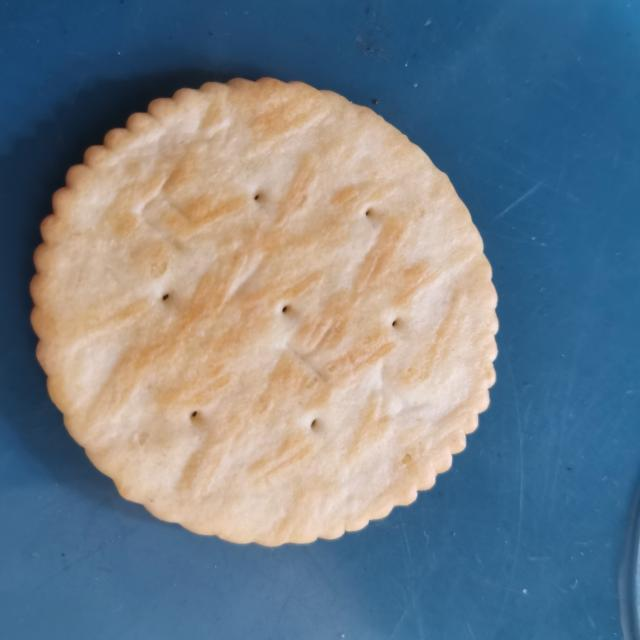Intact: (20, 68, 512, 563)
